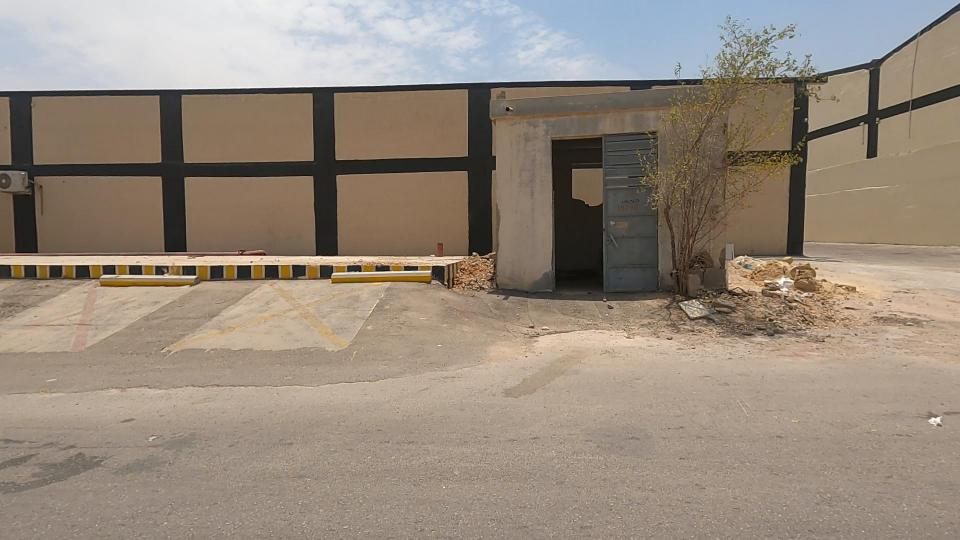GARBAGE: (641, 262, 762, 358), (728, 245, 823, 340), (901, 391, 960, 449)
SAND_ON_ROAD: (682, 216, 821, 329)
